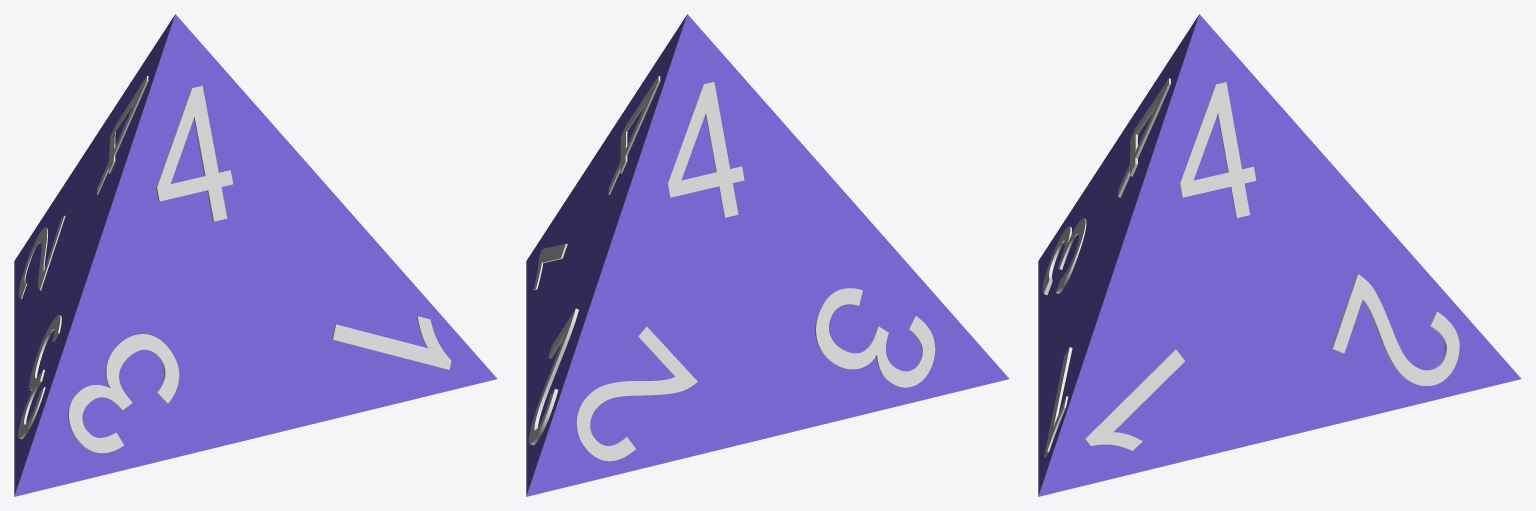
3 views of the same model, side by side, from view 1: azimuth 30°, elevation 25°; view 2: azimuth 150°, elevation 25°; view 3: azimuth 270°, elevation 25° (orthographic).
Parts seen in each view (by area): view 1: Cone.002, 3.004, 4.006, 1.001, 3.005, 4.005, 2.004; view 2: Cone.002, 3.005, 4.005, 2.004, 2.003, 4.003, 1.003; view 3: Cone.002, 2.003, 4.003, 1.003, 3.004, 4.006, 1.001.
Part boxes in pixels (bbox=[...]): Cone.002: bbox=[14, 14, 497, 496]; 3.004: bbox=[68, 334, 179, 453]; 4.006: bbox=[156, 85, 233, 221]; 1.001: bbox=[331, 316, 451, 369]; 3.005: bbox=[18, 315, 61, 439]; 4.005: bbox=[97, 75, 148, 194]; 2.004: bbox=[19, 215, 65, 298]; Cone.002: bbox=[526, 14, 1009, 496]; 3.005: bbox=[815, 288, 935, 387]; 4.005: bbox=[668, 82, 744, 217]; 2.004: bbox=[576, 326, 697, 461]; 2.003: bbox=[528, 308, 578, 445]; 4.003: bbox=[608, 76, 660, 194]; 1.003: bbox=[533, 243, 567, 289]; Cone.002: bbox=[1038, 14, 1521, 496]; 2.003: bbox=[1331, 274, 1459, 385]; 4.003: bbox=[1179, 82, 1256, 218]; 1.003: bbox=[1085, 349, 1184, 450]; 3.004: bbox=[1042, 218, 1086, 295]; 4.006: bbox=[1118, 78, 1170, 197]; 1.001: bbox=[1044, 347, 1072, 457].
Bounding box in the file's own units: 2.49 × 1.8 × 2.16.
